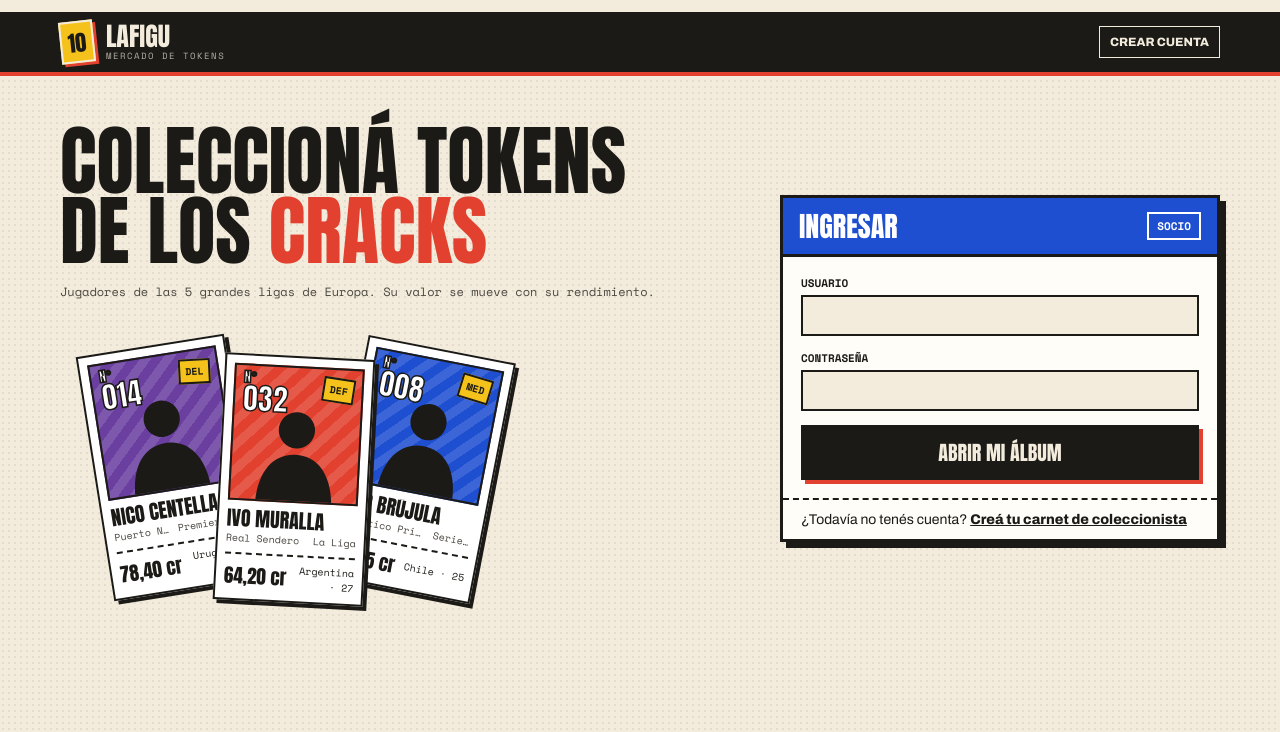
Scenario: LoginPage › opens the album with an in-memory session
Step 1. Type "abril" into the field labelled "Usuario" → x=1000, y=315, box [801,294,1199,336]
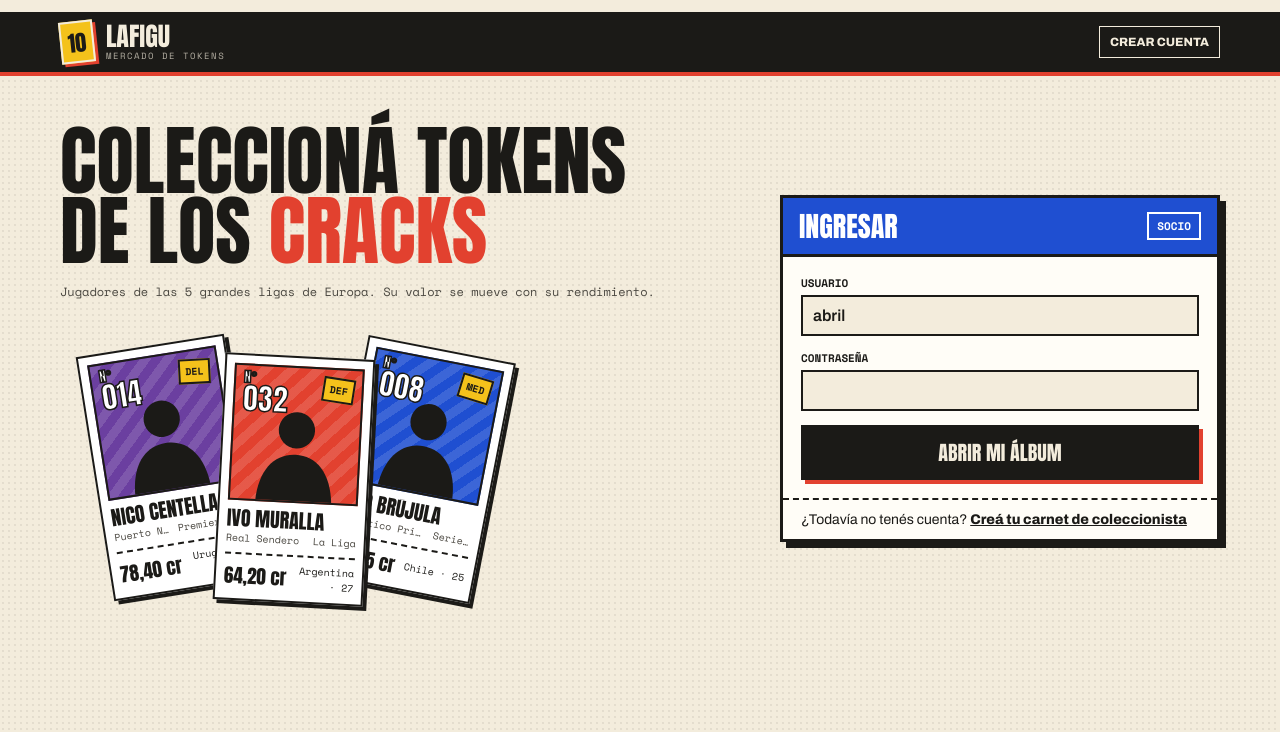
Step 2. Type "secreto123" into the password field labelled "Contraseña" → x=1000, y=390, box [801,370,1199,410]
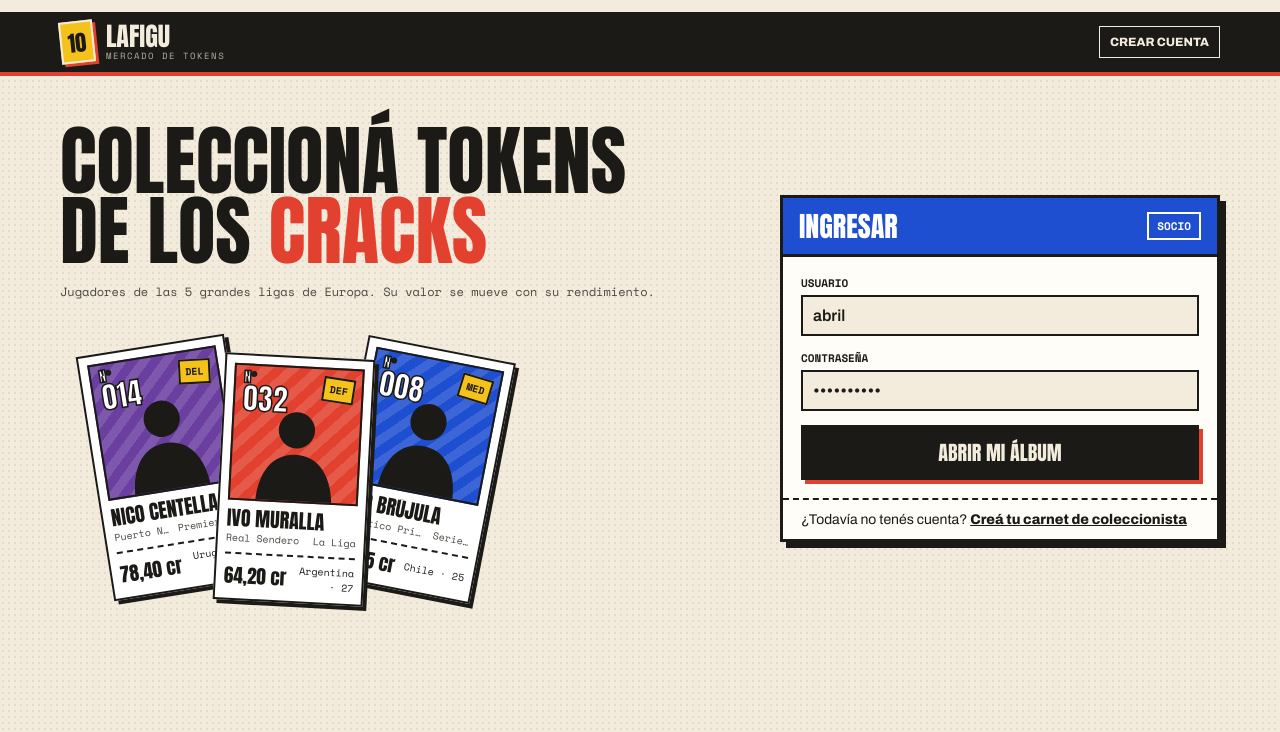
Step 3. Click the button "Abrir mi álbum" → x=1000, y=452, box [801,424,1199,480]
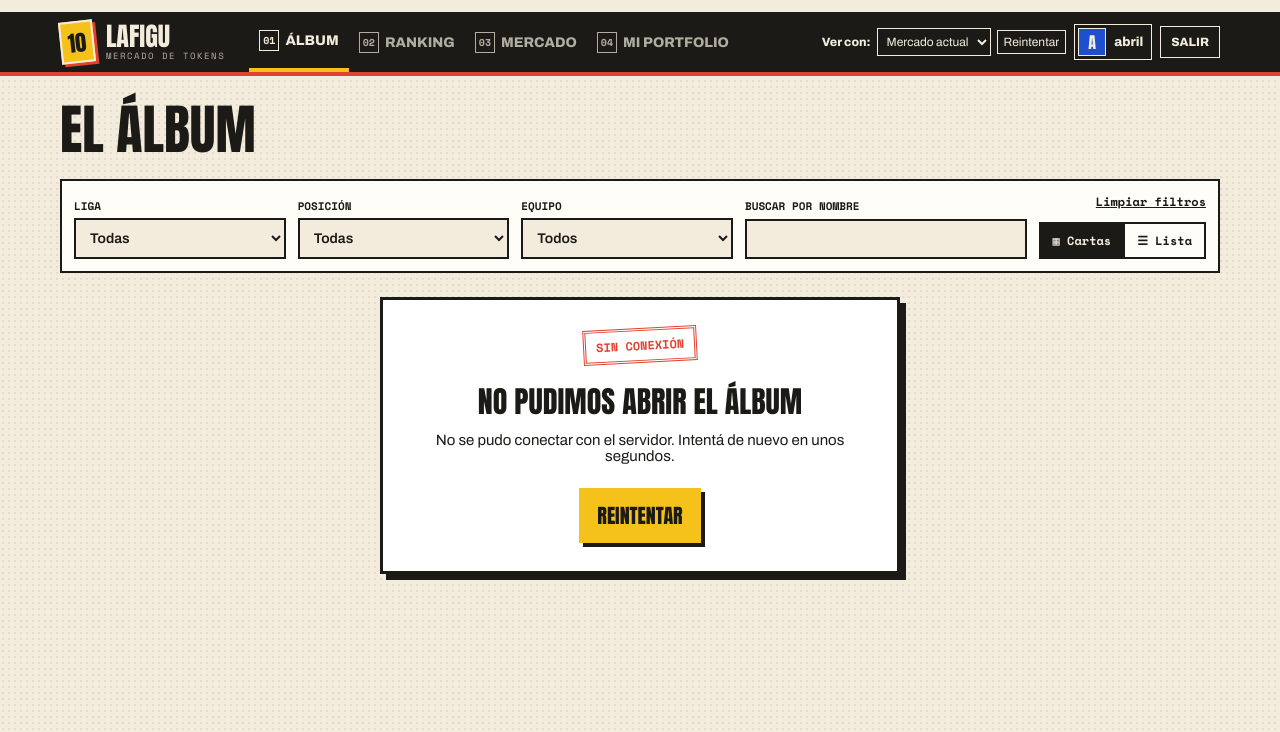
Expected: the heading "El álbum" is shown, [60,88,256,170]
Expected: the text "abril" is shown, [1114,35,1143,49]
